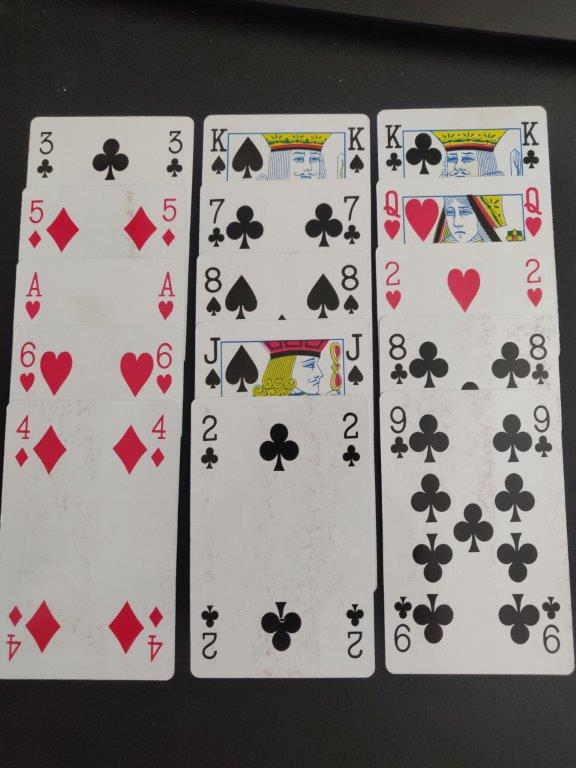2C: (195, 410, 224, 476), (337, 409, 366, 471)
2H: (519, 254, 549, 310), (380, 257, 407, 312)
3C: (31, 126, 57, 184), (162, 123, 187, 180)
4D: (146, 410, 169, 474), (10, 410, 35, 468)
5D: (157, 194, 182, 252), (24, 194, 48, 253)
6H: (153, 337, 178, 399), (17, 336, 39, 395)
7C: (202, 194, 231, 250), (338, 191, 365, 248)
8C: (525, 329, 554, 387), (383, 328, 411, 387)
8S: (199, 262, 227, 320), (337, 260, 365, 318)
9C: (527, 402, 557, 463), (385, 403, 413, 464)
AH: (19, 267, 52, 325), (153, 265, 179, 326)
JS: (198, 335, 225, 392), (342, 330, 365, 388)
KC: (380, 120, 407, 176), (518, 118, 545, 171)
KS: (342, 119, 368, 177), (205, 124, 231, 178)
QH: (377, 187, 407, 241), (519, 182, 546, 237)
